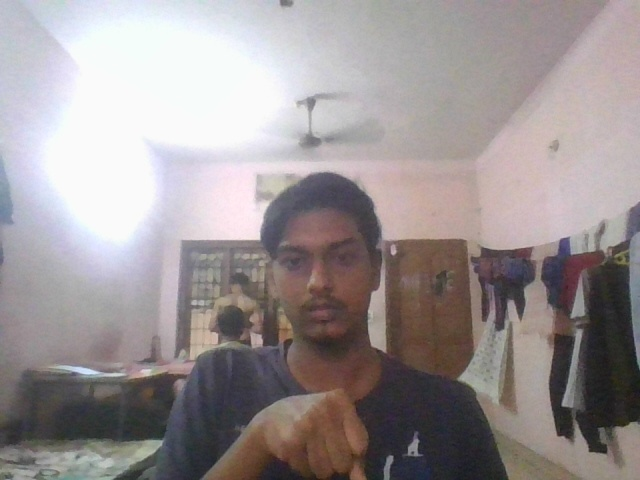yes: (244, 380, 372, 480)
